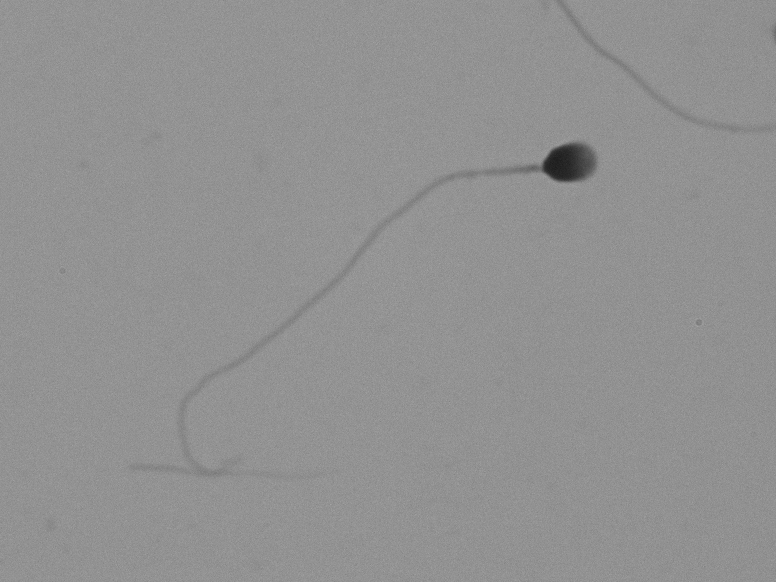Normal: (109, 72, 645, 514)
